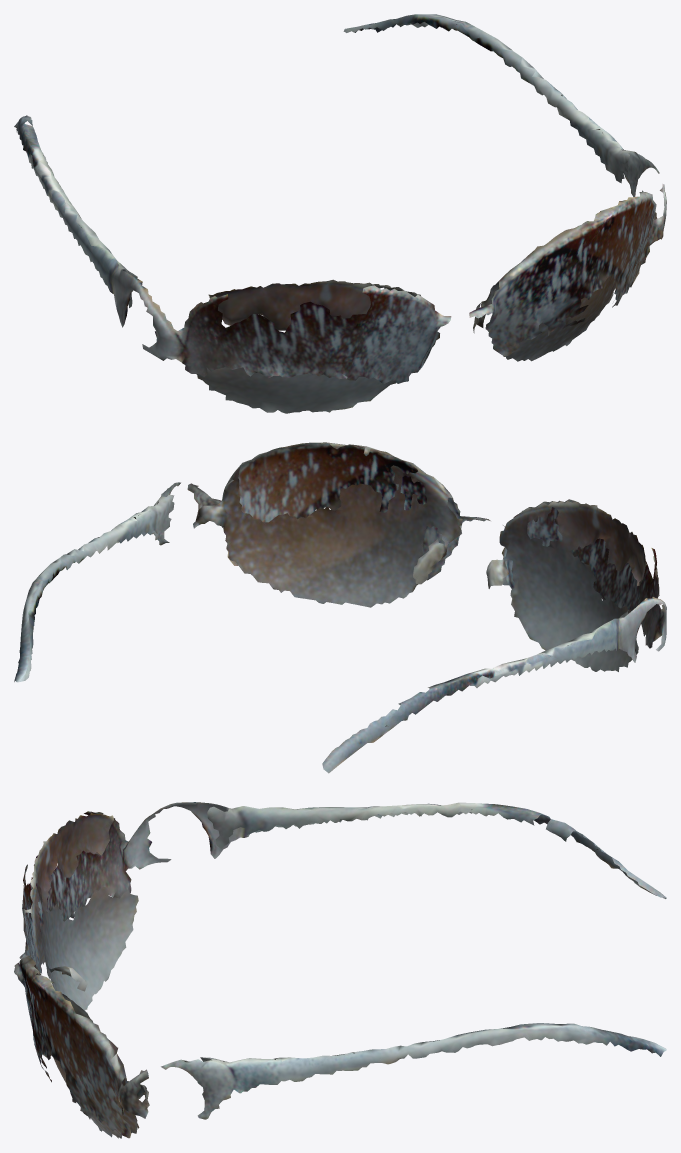
Rendered from scan_align.obj.
3 renders of one model, top to bottom at view 1: azimuth 30°, elevation 25°; view 2: azimuth 150°, elevation 25°; view 3: azimuth 270°, elevation 25°, orthographic. The views are drawn at different scales.
Bounding box in the file's own units: 0.1475 × 0.0417 × 0.1559.
1 material, 1 textured.
